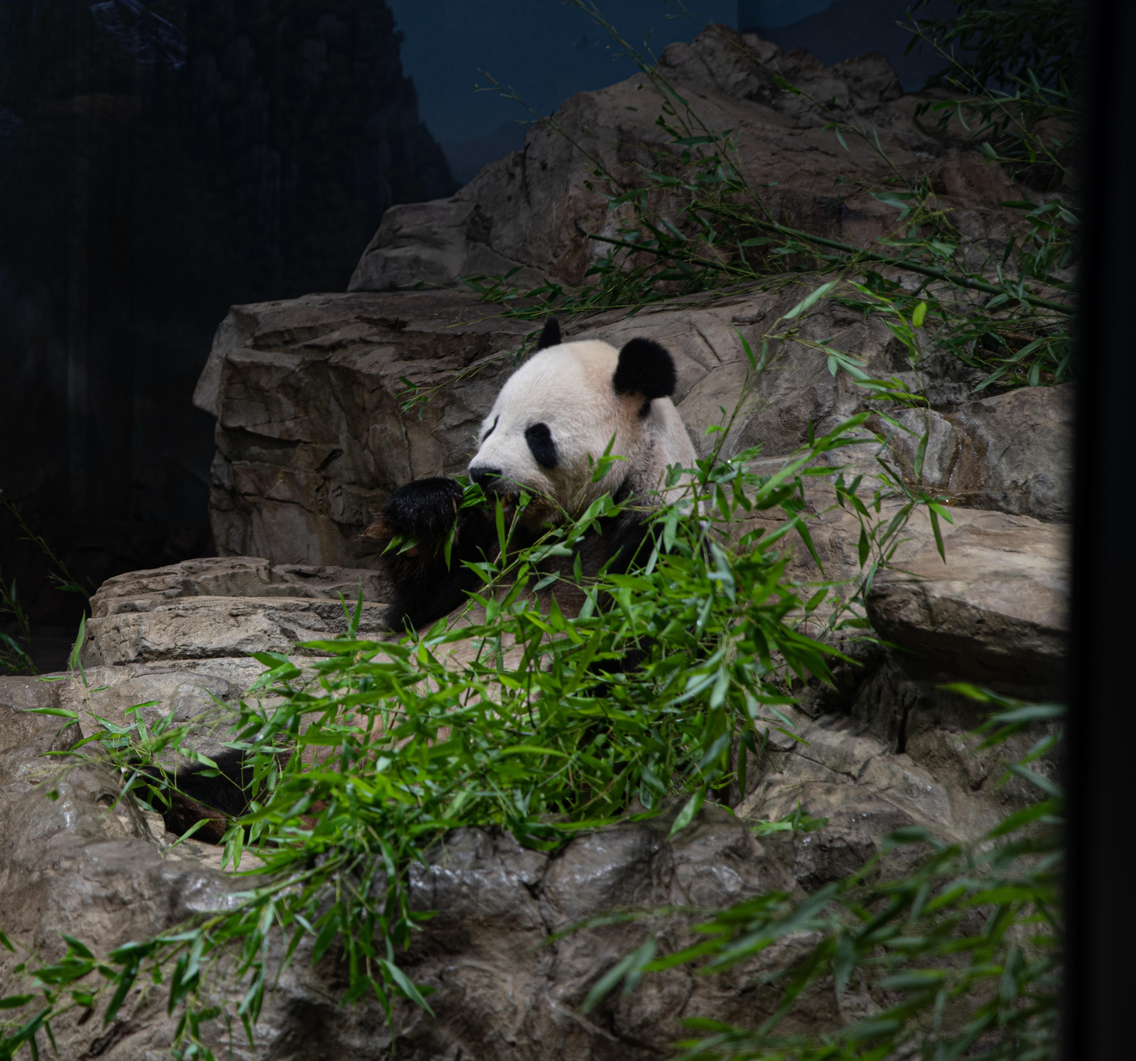panda: (353, 274, 737, 652)
